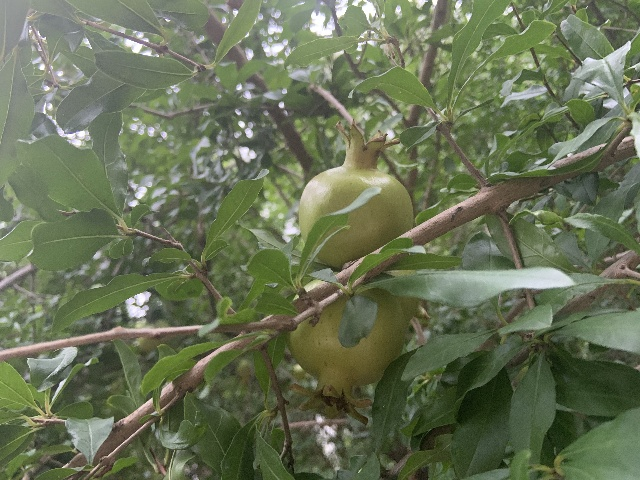mid-growth: (299, 118, 413, 271), (287, 279, 404, 423)
